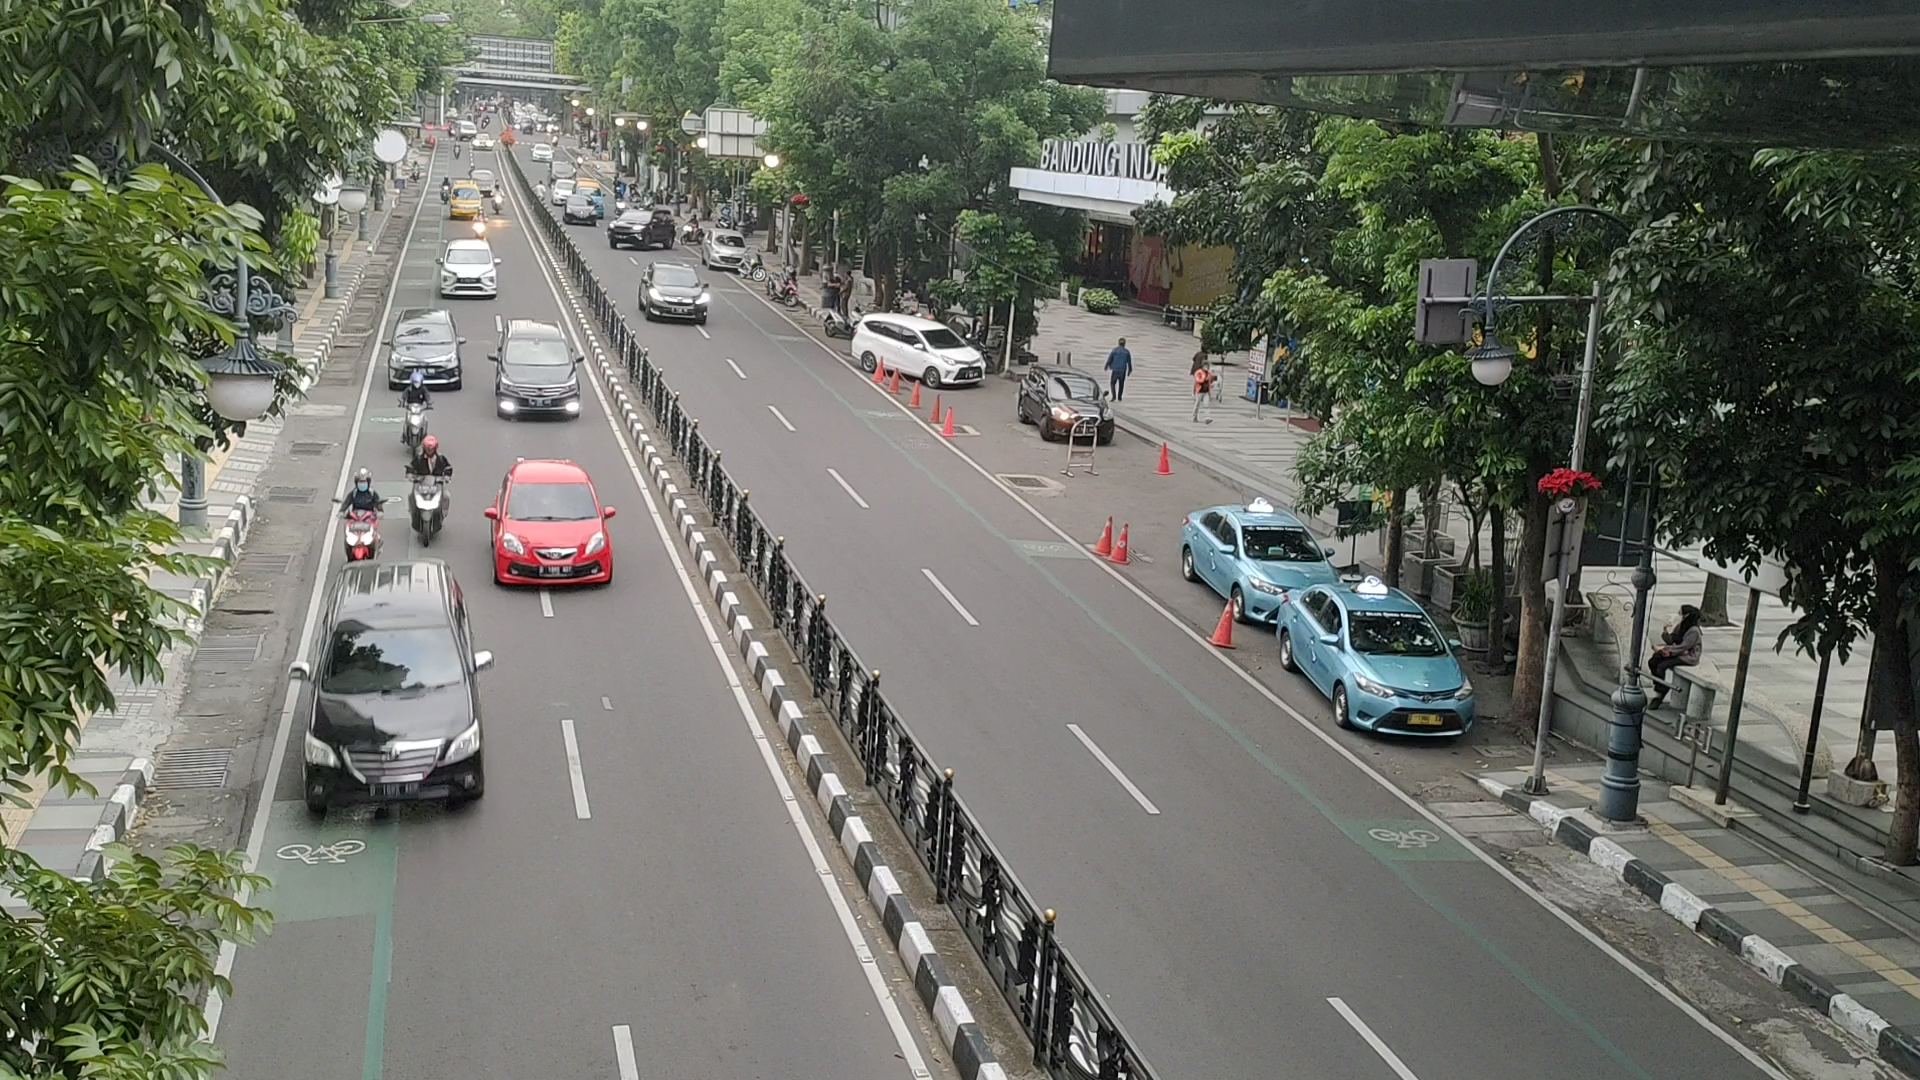mobil: (291, 617, 501, 833), (1332, 608, 1482, 749), (483, 479, 621, 595), (491, 347, 583, 419), (1036, 371, 1120, 447), (382, 319, 463, 397), (910, 319, 992, 392)
motor: (398, 425, 462, 554), (334, 463, 396, 572), (389, 363, 443, 459)
